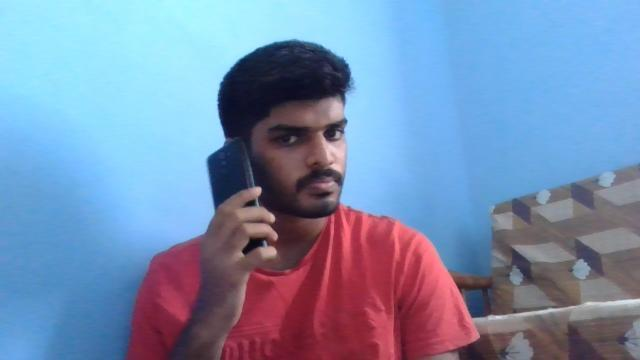PhoneUse: (206, 142, 256, 256)
SafeDriving: (268, 126, 310, 150), (318, 118, 351, 144)
